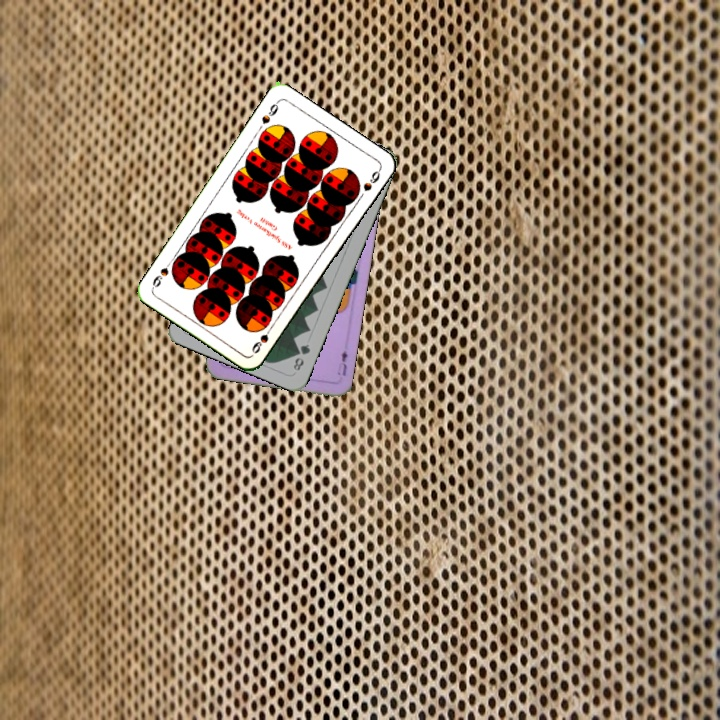EU: (337, 346, 350, 378)
G8: (289, 340, 313, 373)
S9: (247, 320, 276, 356), (258, 97, 281, 126)
